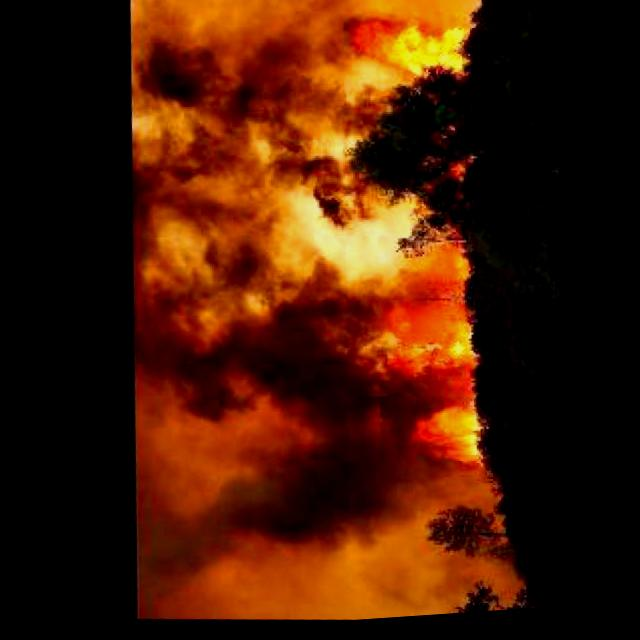Fire: (300, 7, 506, 491)
Smoke: (72, 0, 374, 620)
